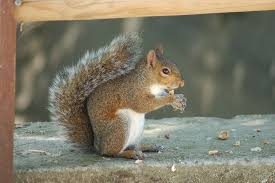Ardilla: (90, 46, 192, 152)
